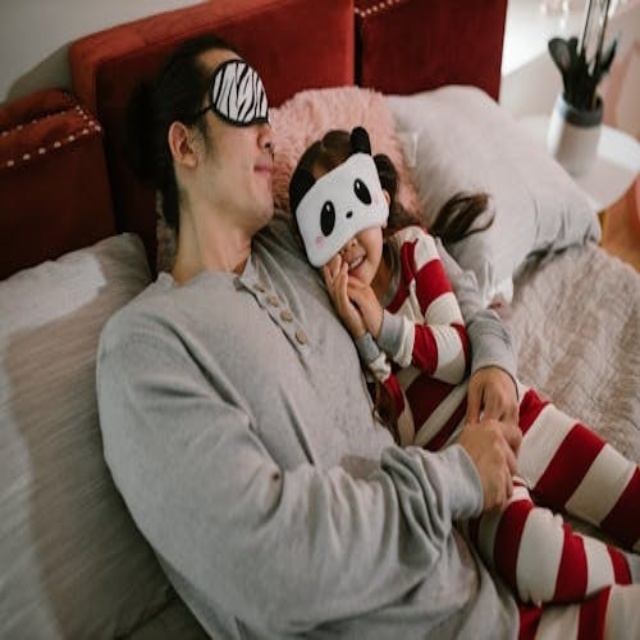Sin_guantes: (456, 413, 522, 510), (448, 350, 524, 419), (320, 256, 383, 334)
Sin_mascara: (227, 152, 276, 209), (339, 242, 376, 281)
